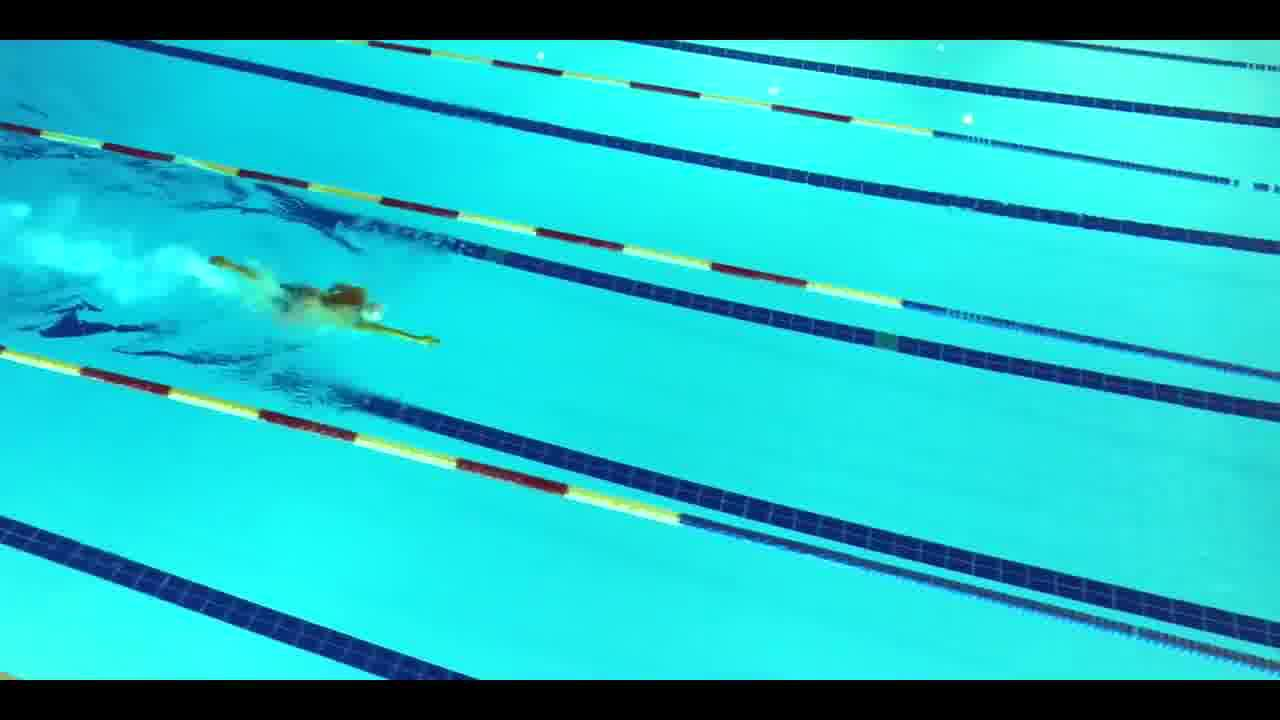human: (212, 254, 445, 350)
